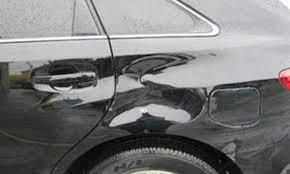quaterpanel-dent: (113, 37, 274, 172)
